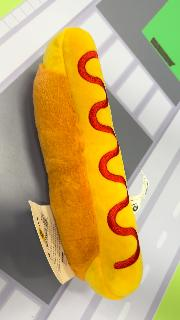hotdog: (32, 27, 144, 301)
